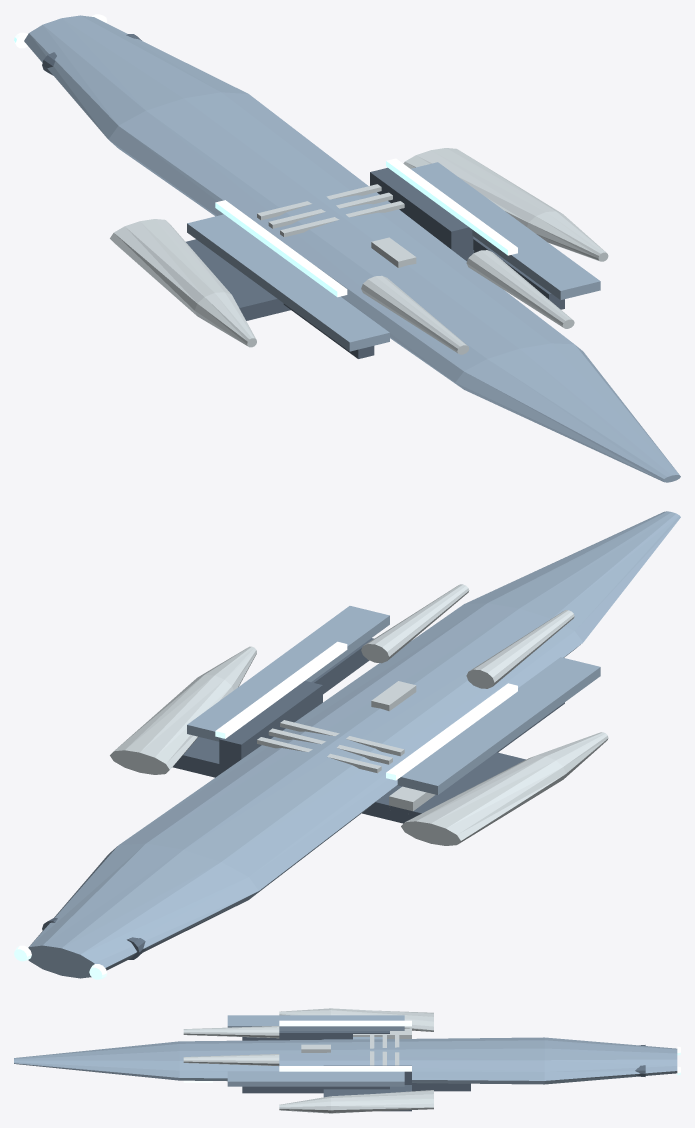
The picture shows the model from 3 angles, top to bottom: view 1: azimuth 30°, elevation 25°; view 2: azimuth 150°, elevation 25°; view 3: azimuth 270°, elevation 25°; orthographic projection. The views are drawn at different scales.
Bounding box in the file's own units: 6.96 × 1.39 × 19.91.
